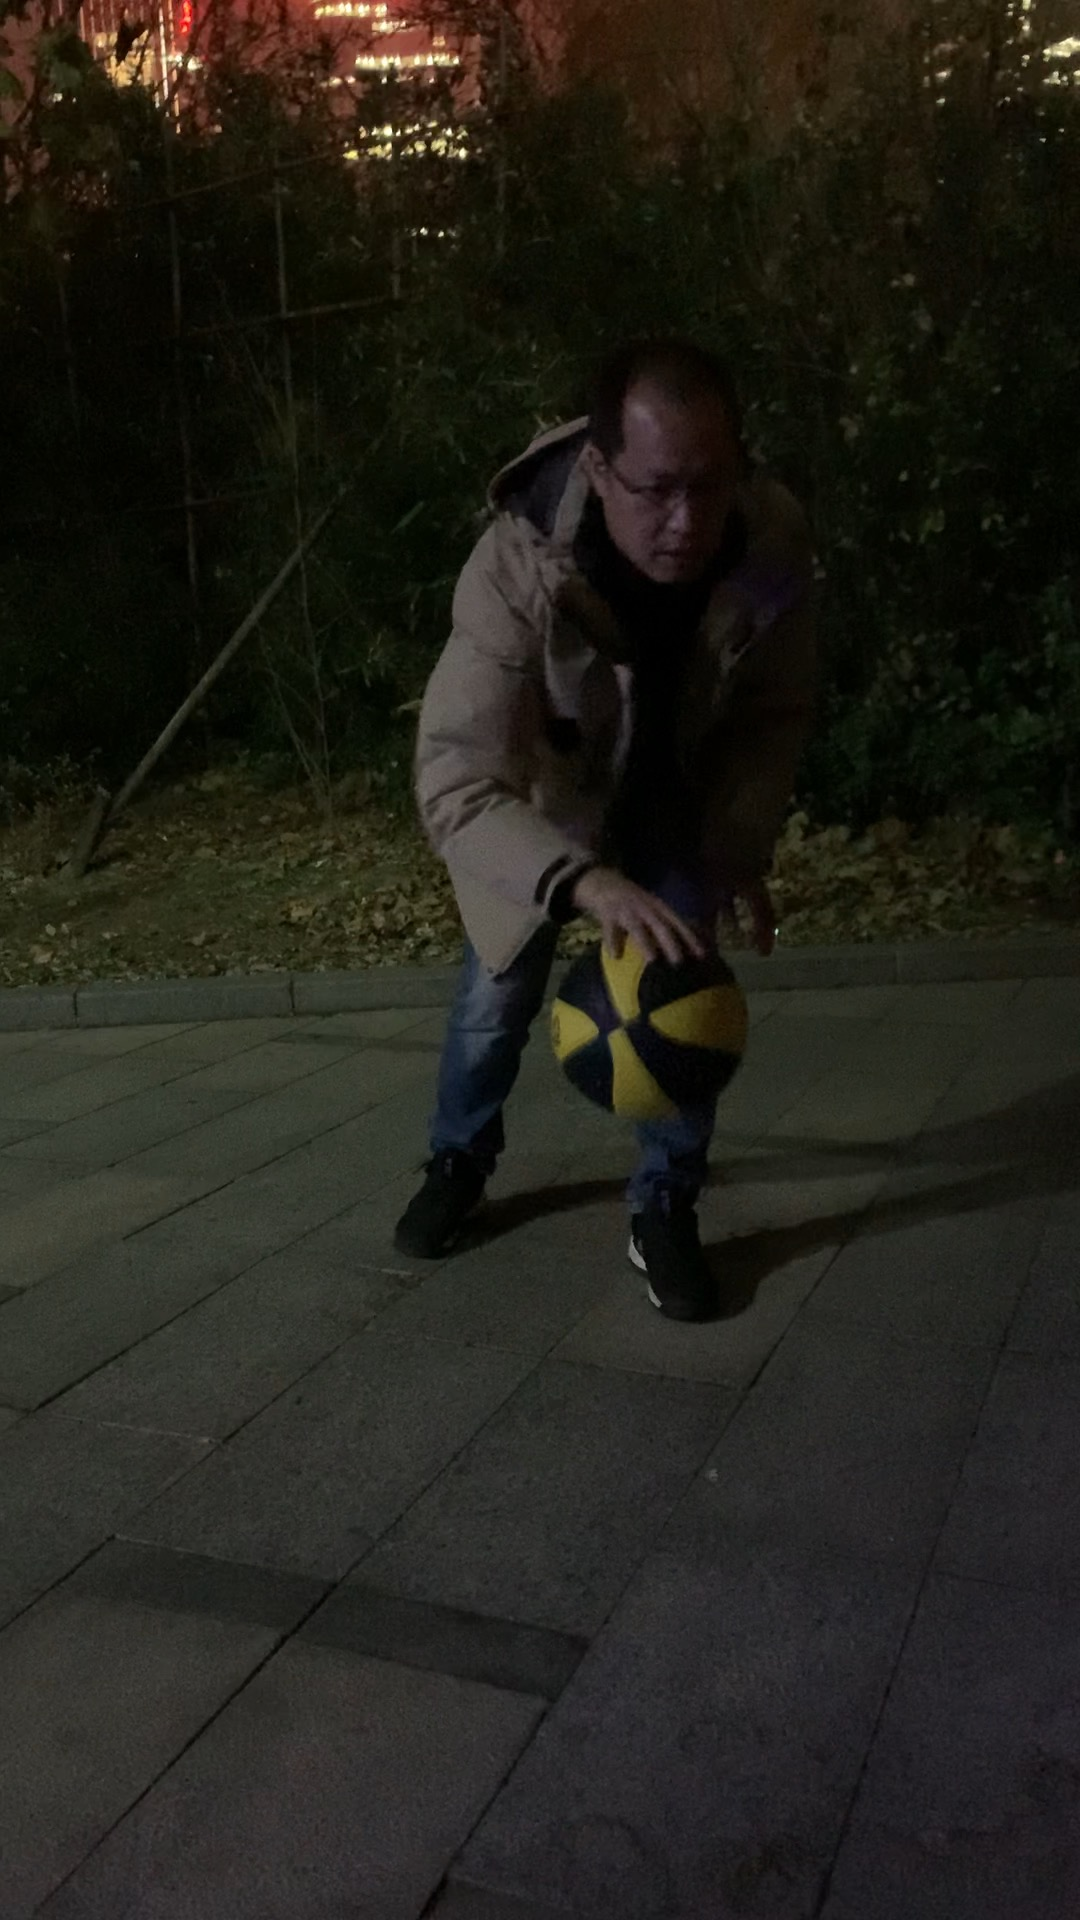ball: (549, 919, 758, 1121)
